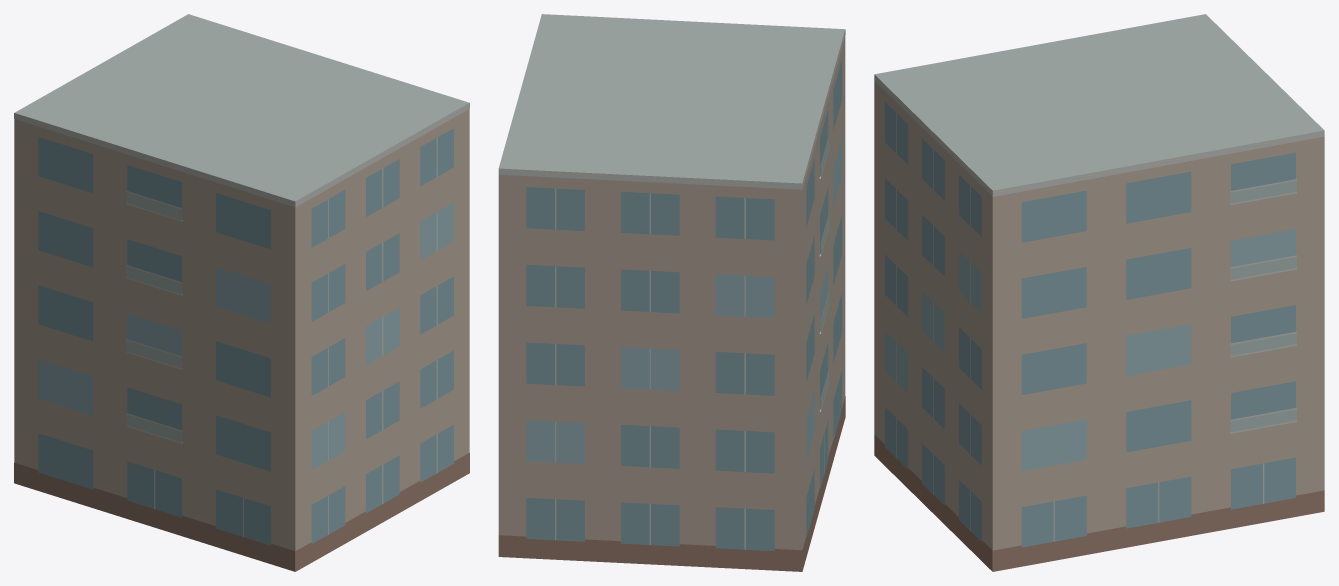
Rendered from residential-66d27e8b-5462-4789-9c2b-1d45fbb8eeb7.glb.
3 renders of one model, left to right at view 1: azimuth 30°, elevation 25°; view 2: azimuth 150°, elevation 25°; view 3: azimuth 270°, elevation 25°, orthographic. The views are drawn at different scales.
Parts seen in each view (by area): view 1: residential-66d27e8b-5462-4789-9c2b-1d45fbb8eeb7.tmp; view 2: residential-66d27e8b-5462-4789-9c2b-1d45fbb8eeb7.tmp; view 3: residential-66d27e8b-5462-4789-9c2b-1d45fbb8eeb7.tmp.
Part boxes in pixels (x1,y1,x2,y2): residential-66d27e8b-5462-4789-9c2b-1d45fbb8eeb7.tmp: (14, 14, 469, 571); residential-66d27e8b-5462-4789-9c2b-1d45fbb8eeb7.tmp: (498, 14, 845, 571); residential-66d27e8b-5462-4789-9c2b-1d45fbb8eeb7.tmp: (874, 14, 1324, 571).
Bounding box in the file's own units: 15.18 × 15.25 × 16.34.
